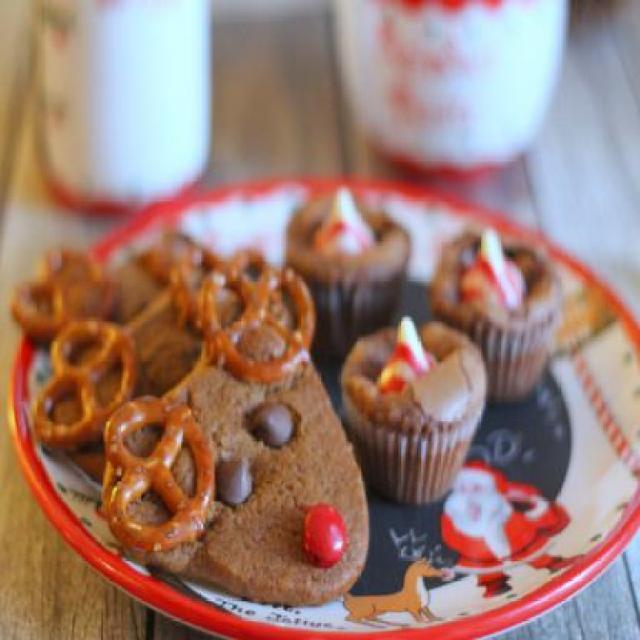Salatini packaged: (107, 390, 216, 552), (201, 245, 317, 382), (33, 316, 138, 454), (8, 245, 118, 344)
